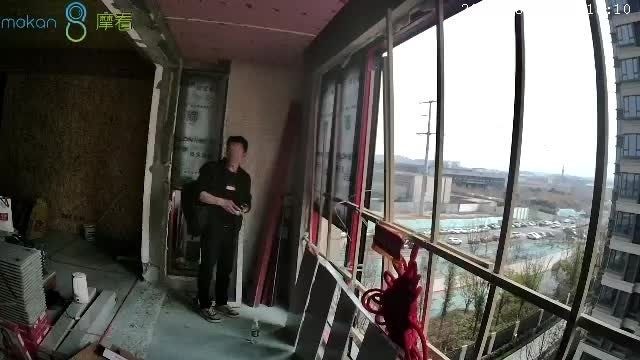people: (195, 136, 252, 322)
window: (309, 1, 640, 357)
